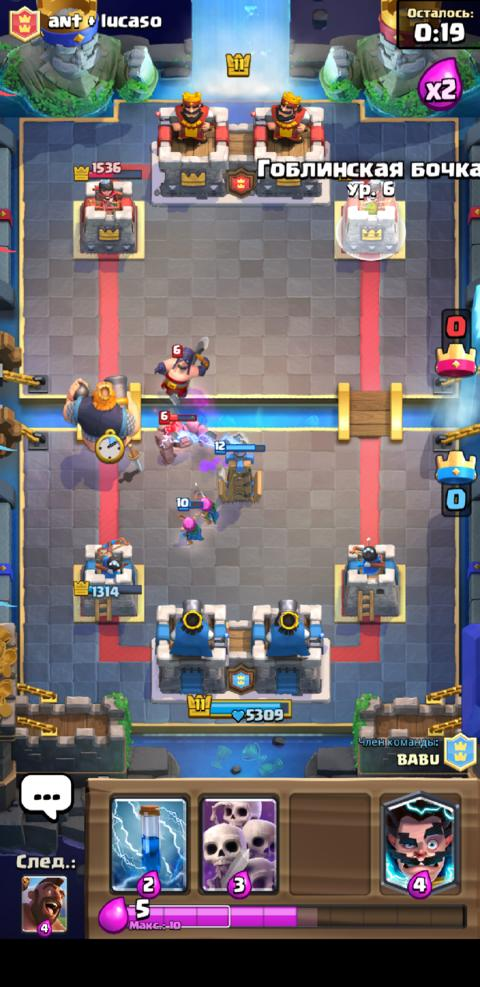ally_archer: (175, 496, 205, 546), (192, 480, 219, 525)
ally_royale_giant: (60, 372, 141, 453)
ally_tesla: (212, 438, 268, 504)
enemy_executioner: (152, 335, 211, 399)
enemy_golem: (153, 409, 208, 464)
